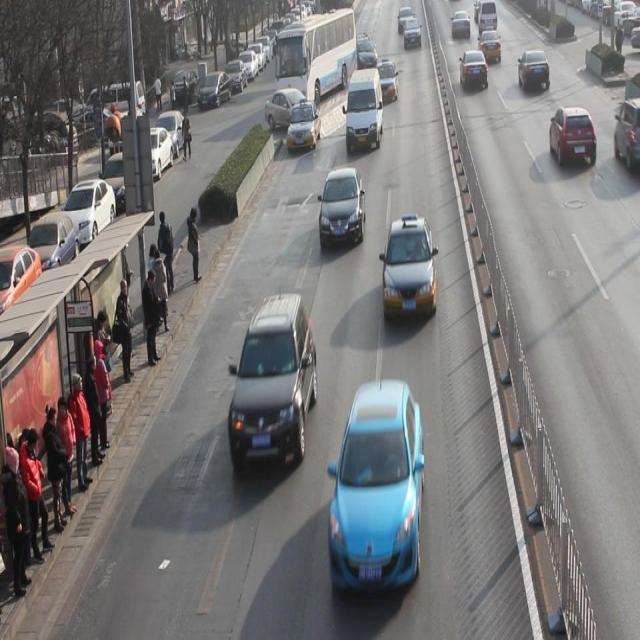car: (330, 378, 425, 591), (230, 293, 317, 473), (382, 216, 437, 322), (320, 169, 366, 249), (550, 108, 597, 169), (264, 89, 316, 134), (614, 99, 640, 174), (287, 102, 322, 154), (519, 50, 550, 96), (460, 50, 488, 96), (373, 64, 399, 102), (479, 29, 501, 67)
truck: (346, 68, 384, 154)
van: (276, 15, 358, 111)
